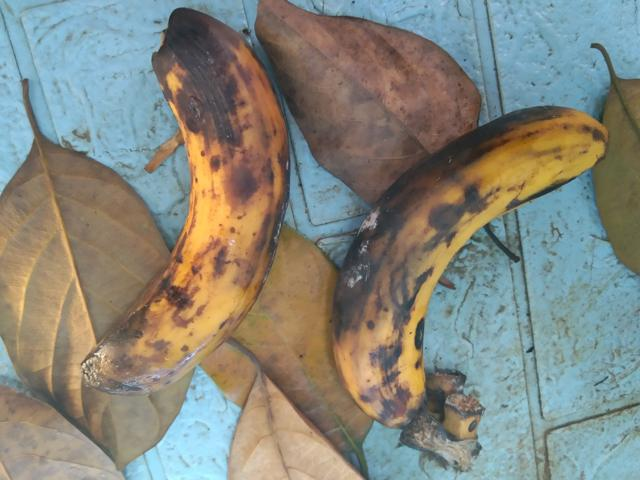rotten: (320, 89, 615, 450), (76, 2, 295, 403)
